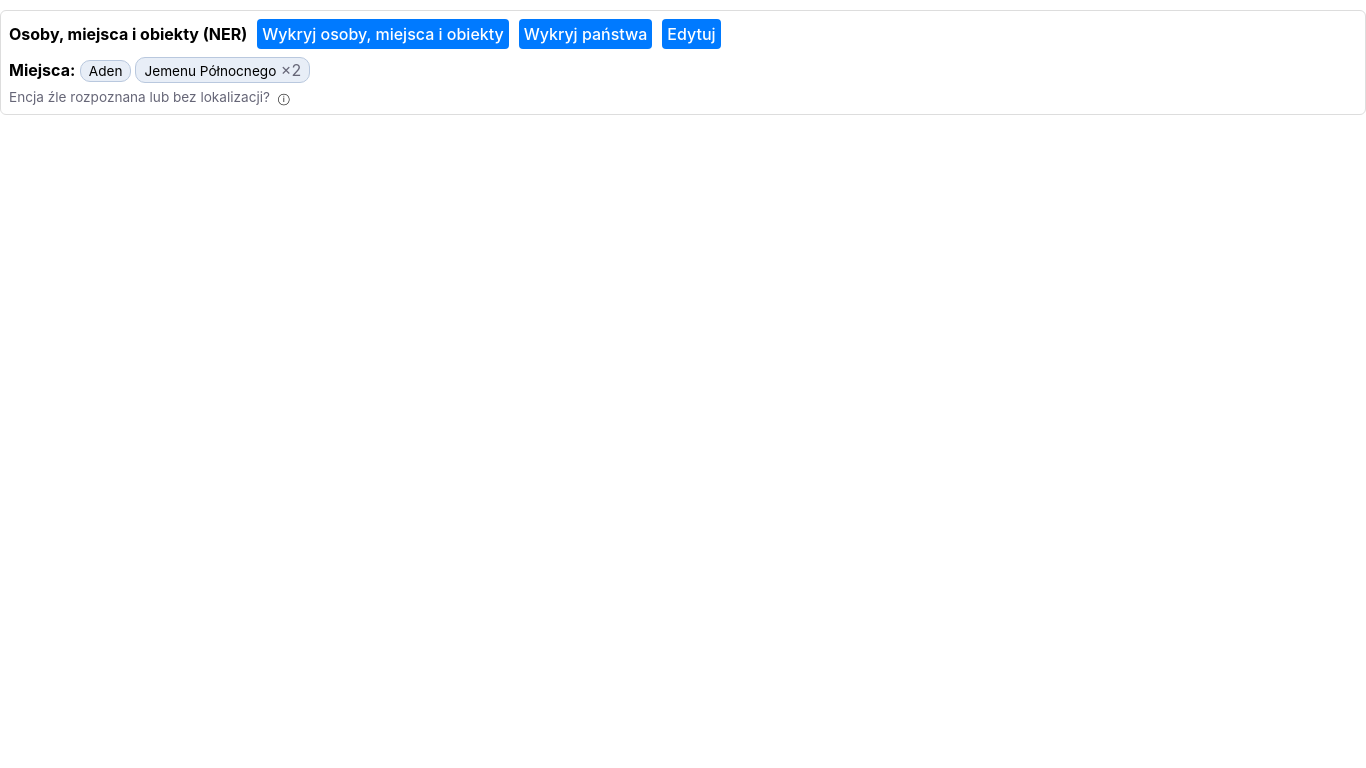
Scenario: offers merge after rename (conflict: false)
The image size is (1366, 768).
Click the button "Jemenu Północnego" at (210, 71), box [144, 63, 276, 79]
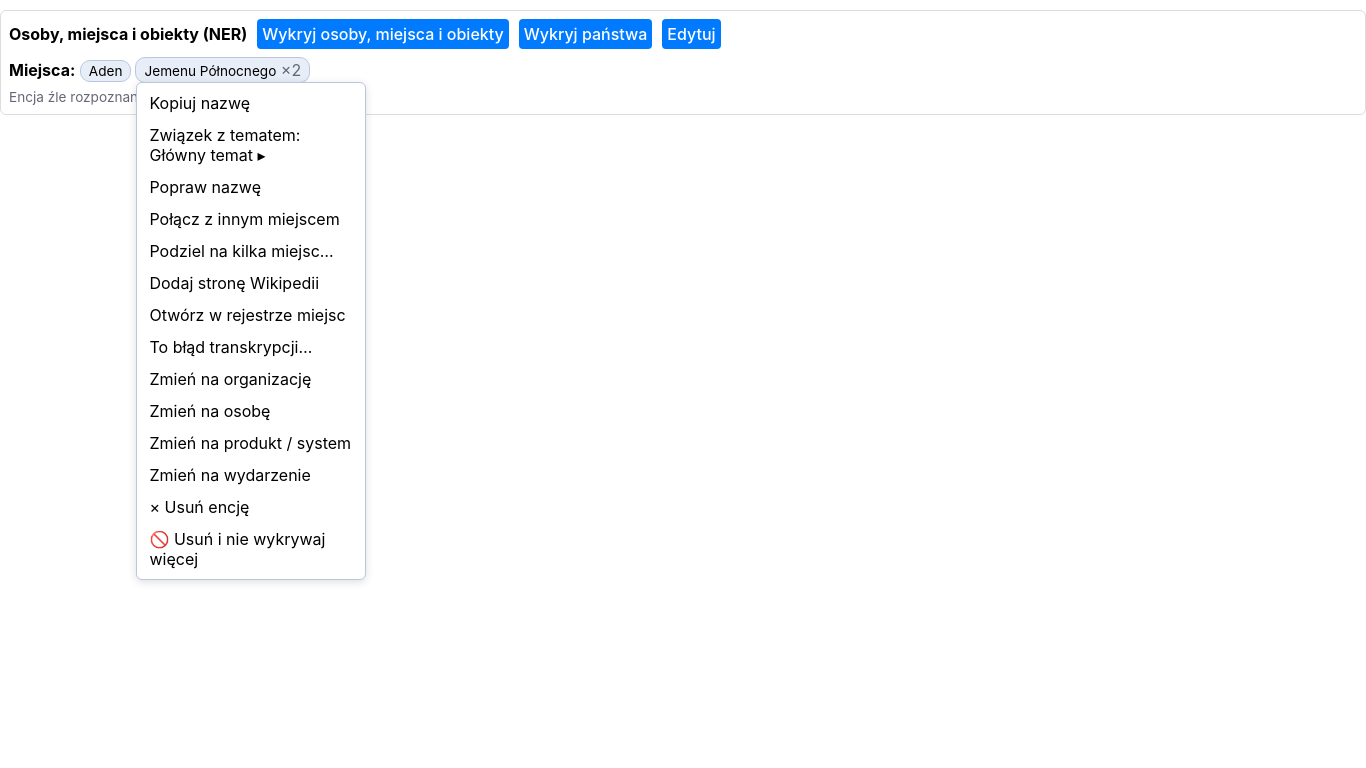
Click the menu item "Popraw nazwę" at (252, 187), box [142, 171, 362, 203]
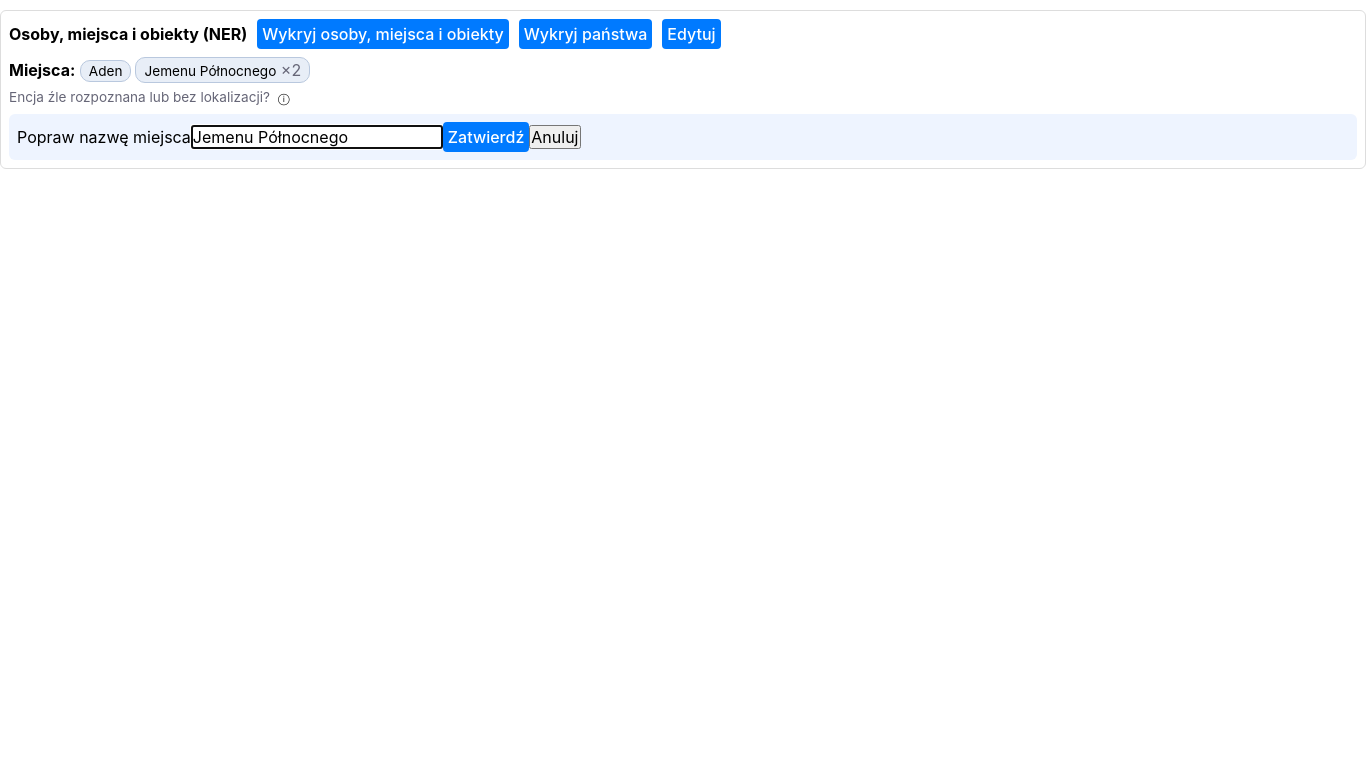
Replace the text in the field labelled "Popraw nazwę miejsca" with "Aden" at (317, 137), box [191, 125, 443, 149]
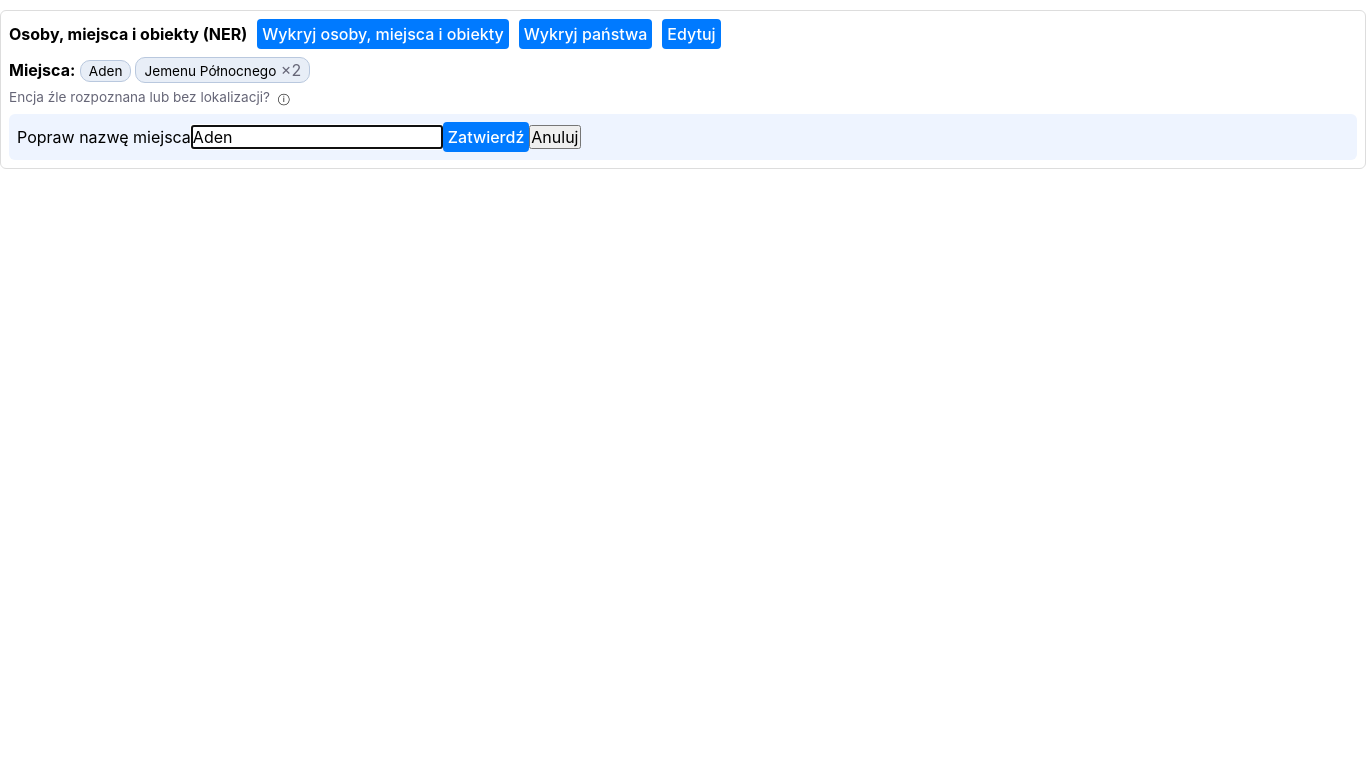
Click the button "Zatwierdź" at (486, 137), box [443, 122, 529, 152]
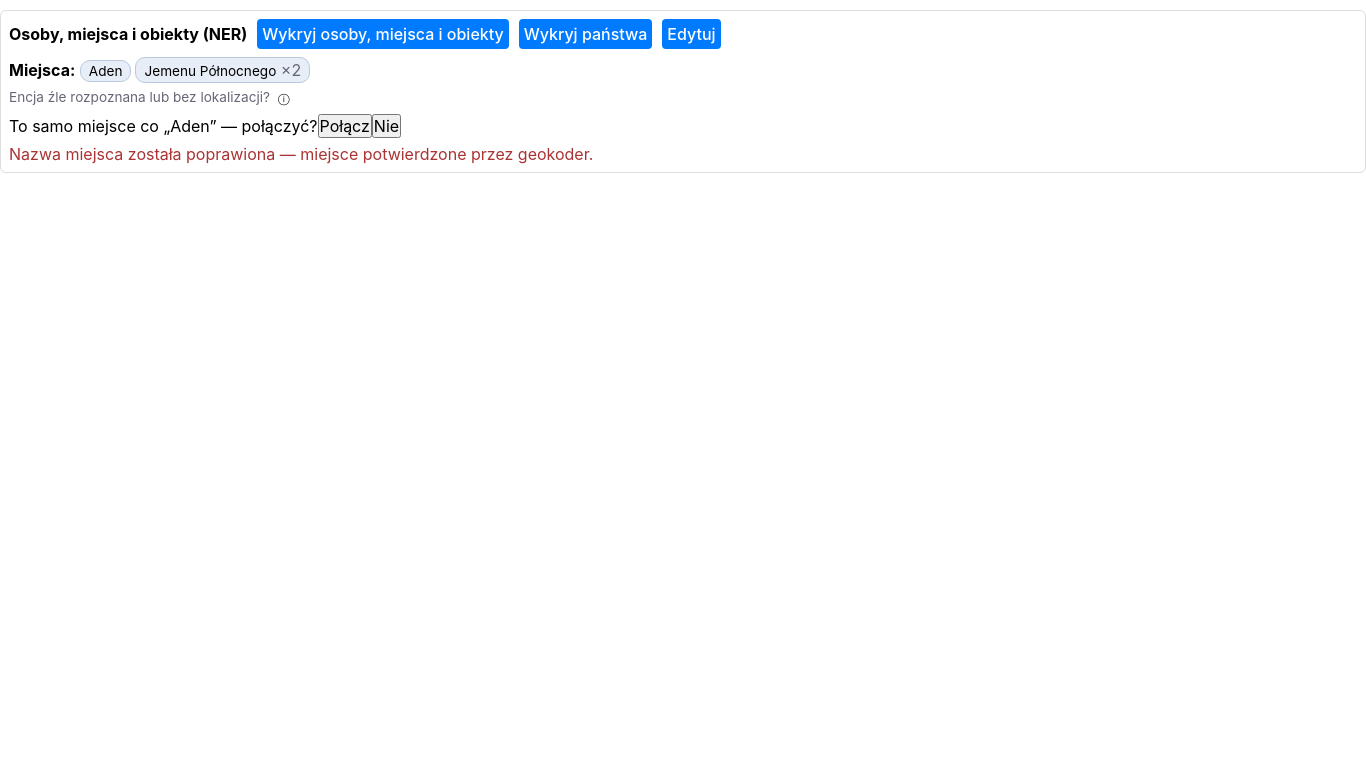
Expected: the text "To samo miejsce co „Aden” — połączyć?" is shown, [9, 116, 318, 136]
Expected: the text "miejsce potwierdzone przez geokoder" is shown, [9, 144, 593, 164]
Click the button "Połącz" at (345, 126), box [318, 114, 372, 138]
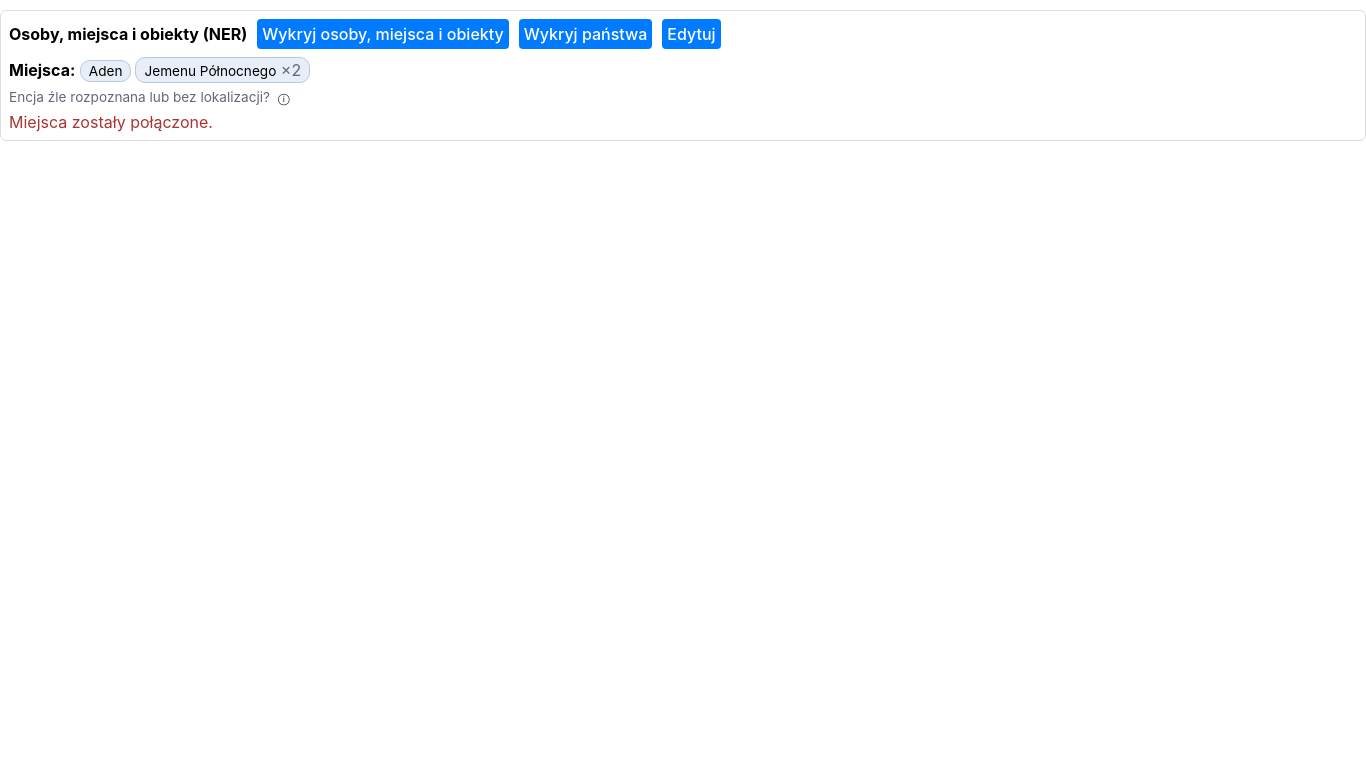
Expected: the text "Miejsca zostały połączone." is shown, [9, 112, 213, 132]
